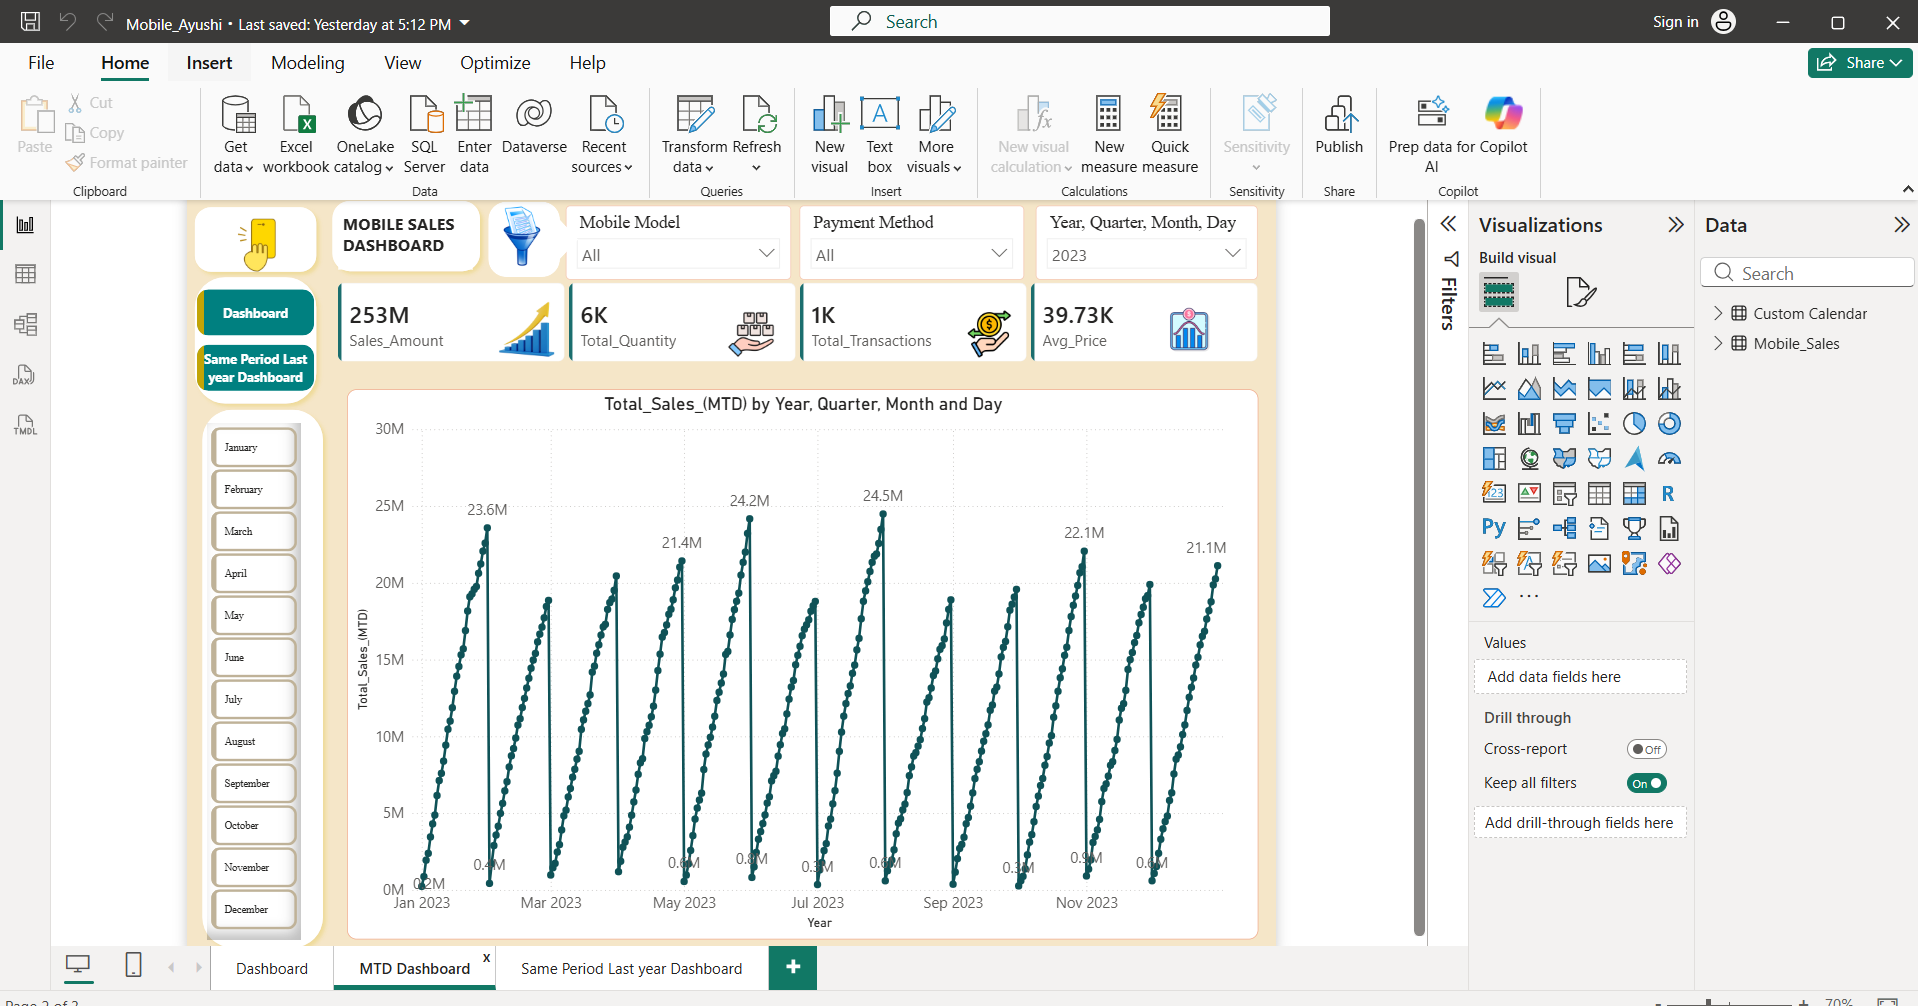

What the dashboard file says about the page in this screenshot:
{"tool":"powerbi","page":{"name":"MTD Dashboard","canvas":[1245,872],"ordinal":1},"visuals":[{"type":"shape","box":[0,7.1,156.7,91.8],"z":0},{"type":"image","box":[0,0,142.6,98.8],"z":1000},{"type":"shape","box":[0,87.5,156.7,162.4],"z":2000},{"type":"shape","box":[8.6,238.6,155.7,632.9],"z":3000},{"type":"cardVisual","fields":{"Data":["Mobile_Sales.Sales_Amount","Mobile_Sales.Total_Quantity","Mobile_Sales.Total_Transactions","Mobile_Sales.Avg_Price"]},"box":[155.7,85.7,1088.6,124.3],"z":4000},{"type":"image","box":[343.8,115.6,88.8,77.5],"z":5000},{"type":"image","box":[608.8,135.3,71.9,52.1],"z":6000},{"type":"image","box":[875.1,133.9,81.7,53.5],"z":7000},{"type":"image","box":[1120.3,121.2,52.1,69.1],"z":8000},{"type":"slicer","fields":{"Values":["Custom Calendar.Date.Variation.Date Hierarchy.Year","Custom Calendar.Date.Variation.Date Hierarchy.Quarter","Custom Calendar.Date.Variation.Date Hierarchy.Month","Custom Calendar.Date.Variation.Date Hierarchy.Day"]},"box":[969.5,14.1,253.7,84.6],"z":9000},{"type":"slicer","fields":{"Values":["Mobile_Sales.Payment Method"]},"box":[700.4,14.1,256.5,84.6],"z":10000},{"type":"slicer","fields":{"Values":["Mobile_Sales.Mobile Model"]},"box":[432.6,14.1,257.9,84.6],"z":11000},{"type":"shape","box":[344,10,82,86],"z":12000},{"type":"image","box":[339,10,87,76],"z":13000},{"type":"shape","box":[404,30,43,46],"z":14000},{"type":"shape","box":[156.7,0,186.7,98.3],"z":15000},{"type":"textbox","box":[173.3,16.7,153.3,70],"z":16000},{"type":"lineChart","fields":{"Y":["Mobile_Sales.Total_Sales_(MTD)"],"Category":["Custom Calendar.Date.Variation.Date Hierarchy.Year","Custom Calendar.Date.Variation.Date Hierarchy.Quarter","Custom Calendar.Date.Variation.Date Hierarchy.Month","Custom Calendar.Date.Variation.Date Hierarchy.Day"]},"box":[182.9,224.3,1041.4,628.6],"z":17000},{"type":"advancedSlicerVisual","fields":{"Values":["Custom Calendar.Date.Variation.Date Hierarchy.Month"]},"box":[23.3,263.3,108.3,590],"z":18000},{"type":"pageNavigator","box":[11.4,110,134.3,117.1],"z":18001}]}

Visuals, with their boxes on the page's 1245x872 design canvas (x1, y1, x2, y2). These are canvas units, not pixel positions in the 1918x1006 screenshot, which may show the page scaled, cropped or inside an application window:
shape: x1=0 y1=7 x2=157 y2=99
image: x1=0 y1=0 x2=143 y2=99
shape: x1=0 y1=88 x2=157 y2=250
shape: x1=9 y1=239 x2=164 y2=872
cardVisual - Mobile_Sales.Sales_Amount x Mobile_Sales.Total_Quantity: x1=156 y1=86 x2=1244 y2=210
image: x1=344 y1=116 x2=433 y2=193
image: x1=609 y1=135 x2=681 y2=187
image: x1=875 y1=134 x2=957 y2=187
image: x1=1120 y1=121 x2=1172 y2=190
slicer - Custom Calendar.Date.Variation.Date Hierarchy.Year x Custom Calendar.Date.Variation.Date Hierarchy.Quarter: x1=970 y1=14 x2=1223 y2=99
slicer - Mobile_Sales.Payment Method: x1=700 y1=14 x2=957 y2=99
slicer - Mobile_Sales.Mobile Model: x1=433 y1=14 x2=690 y2=99
shape: x1=344 y1=10 x2=426 y2=96
image: x1=339 y1=10 x2=426 y2=86
shape: x1=404 y1=30 x2=447 y2=76
shape: x1=157 y1=0 x2=343 y2=98
textbox: x1=173 y1=17 x2=327 y2=87
lineChart - Mobile_Sales.Total_Sales_(MTD) x Custom Calendar.Date.Variation.Date Hierarchy.Year: x1=183 y1=224 x2=1224 y2=853
advancedSlicerVisual - Custom Calendar.Date.Variation.Date Hierarchy.Month: x1=23 y1=263 x2=132 y2=853
pageNavigator: x1=11 y1=110 x2=146 y2=227
